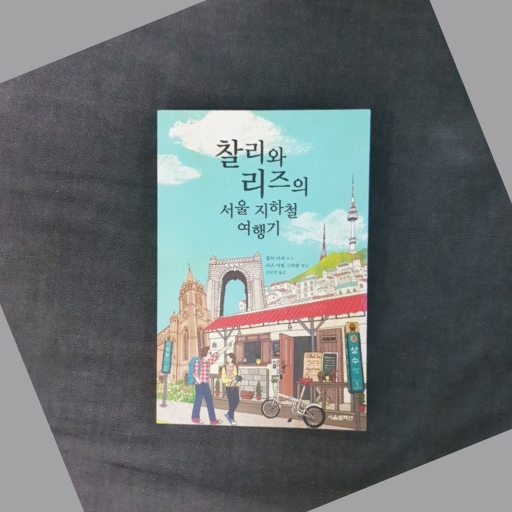Paper_0: (151, 103, 379, 437)
